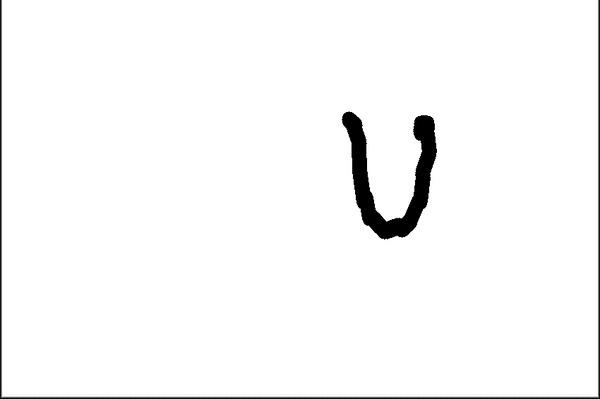V: (330, 105, 464, 258)
